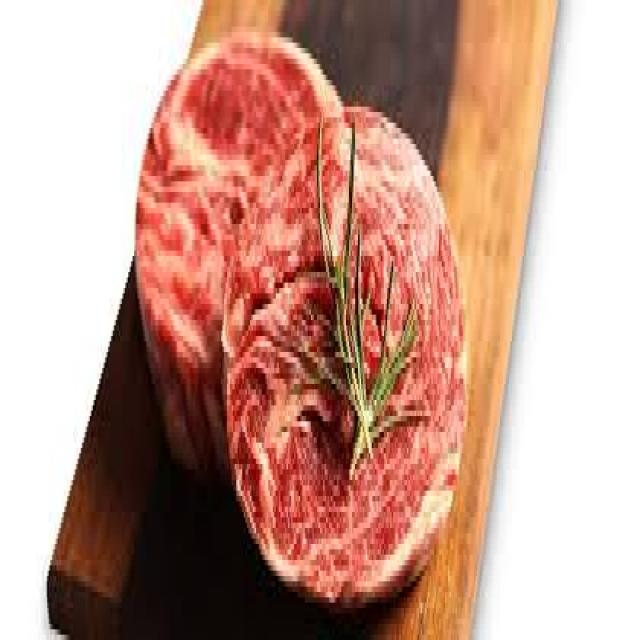Beef: (222, 107, 468, 605)
